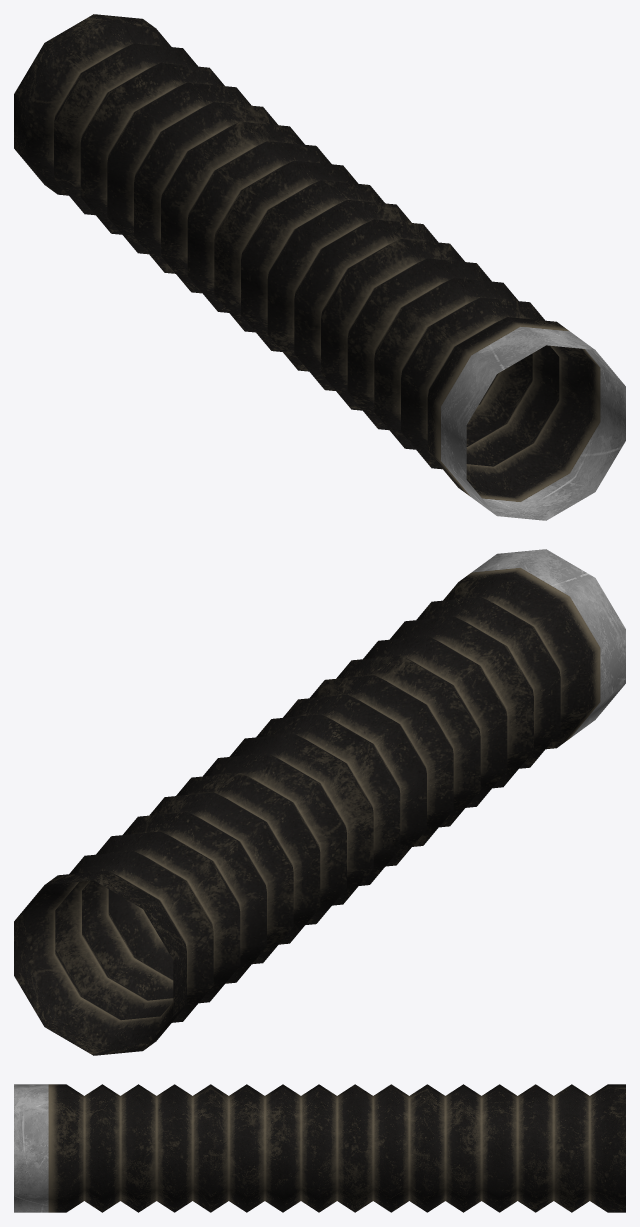
File: Pipe01.fbx
The picture shows the model from 3 angles, top to bottom: view 1: azimuth 30°, elevation 25°; view 2: azimuth 150°, elevation 25°; view 3: azimuth 270°, elevation 25°; orthographic projection. The views are drawn at different scales.
Parts seen in each view (by area): view 1: Pipe01; view 2: Pipe01; view 3: Pipe01.
Boxes of the visible parts, x1,y1,x2,y2 form: Pipe01: (14,14,625,520); Pipe01: (14,549,625,1055); Pipe01: (14,1084,625,1212).
Bounding box in the file's own units: 56.68 × 59.6 × 279.
